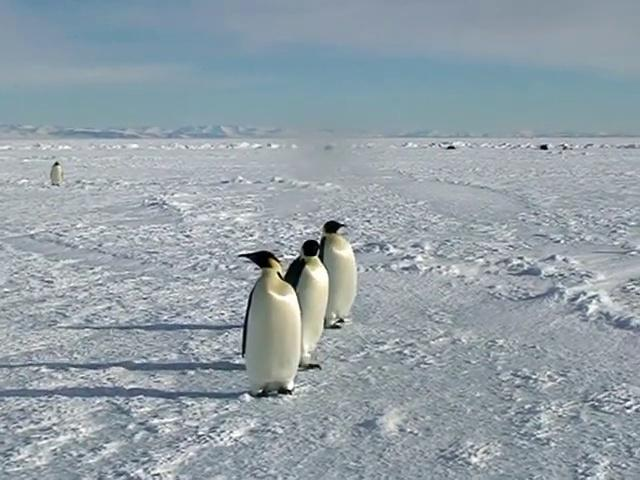animal: (320, 222, 359, 329)
